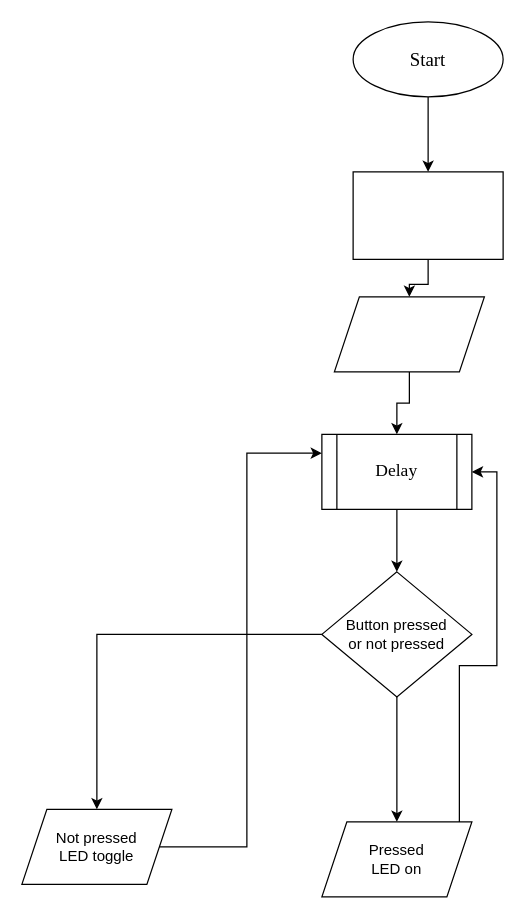
The diagram is 529 pixels wide and 919 high, and some of its shapes have lost their labels. The centre of each missing label's shape, as x and y in pixels:
"Initalize Ports" belongs at [427,215].
"Turn LED ON" belongs at [408,334].
